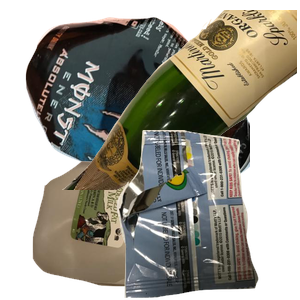glass: (60, 10, 300, 190)
metal: (23, 15, 263, 195)
plastic: (30, 159, 247, 300)
trash: (114, 130, 300, 300)
